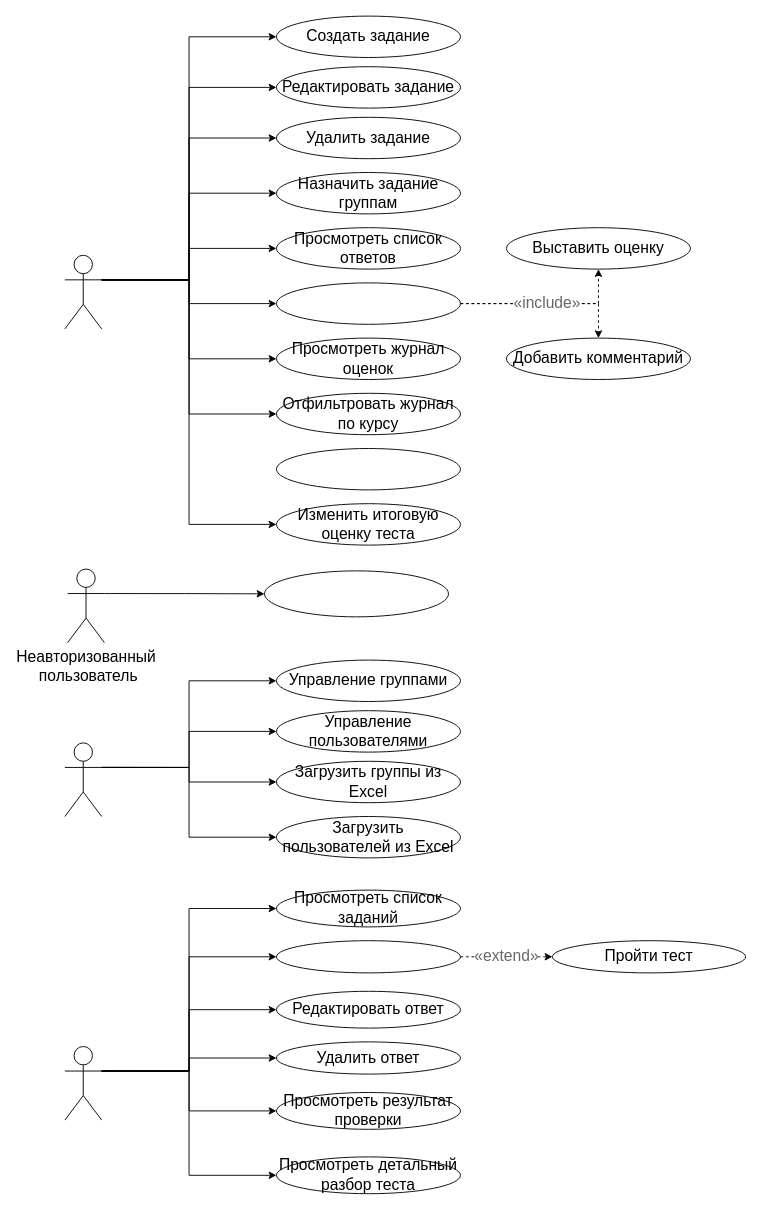
Image size: 762x1210. Some labels were removed from this diagram. Here are the shapes that lost their labels. From the top down, the centre of each, then its label:
At point 83,291: "Преподаватель".
At point 368,303: "Проверить работу".
At point 368,469: "Просмотреть все попытки студента".
At point 356,593: "Авторизоваться в системе".
At point 83,779: "Администратор".
At point 368,956: "Сдать работу".
At point 83,1083: "Студент".
